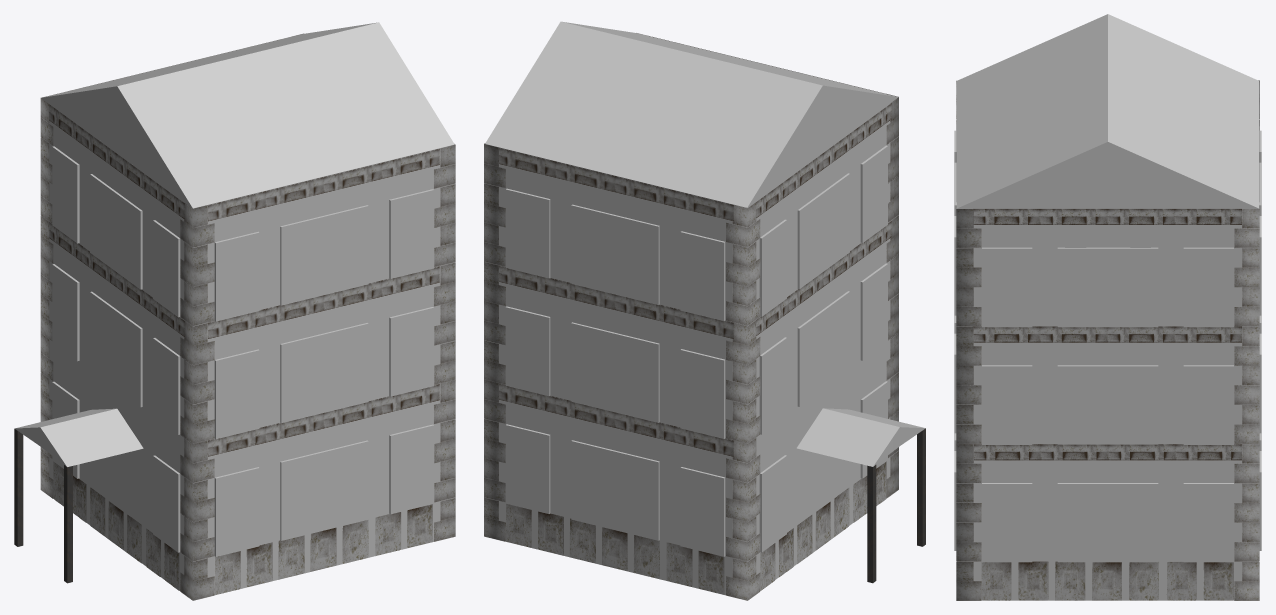
File: Aprtment_Beige.fbx
3 views of the same model, side by side, from view 1: azimuth 30°, elevation 25°; view 2: azimuth 150°, elevation 25°; view 3: azimuth 270°, elevation 25° (orthographic).
Visible parts, largest first — view 1: Apartment_Beige; view 2: Apartment_Beige; view 3: Apartment_Beige.
Boxes of the visible parts, x1,y1,x2,y2 form: Apartment_Beige: (14, 22, 455, 600); Apartment_Beige: (484, 21, 925, 600); Apartment_Beige: (954, 14, 1261, 600).
Size of the model in its own units: 514 by 662 by 401.
